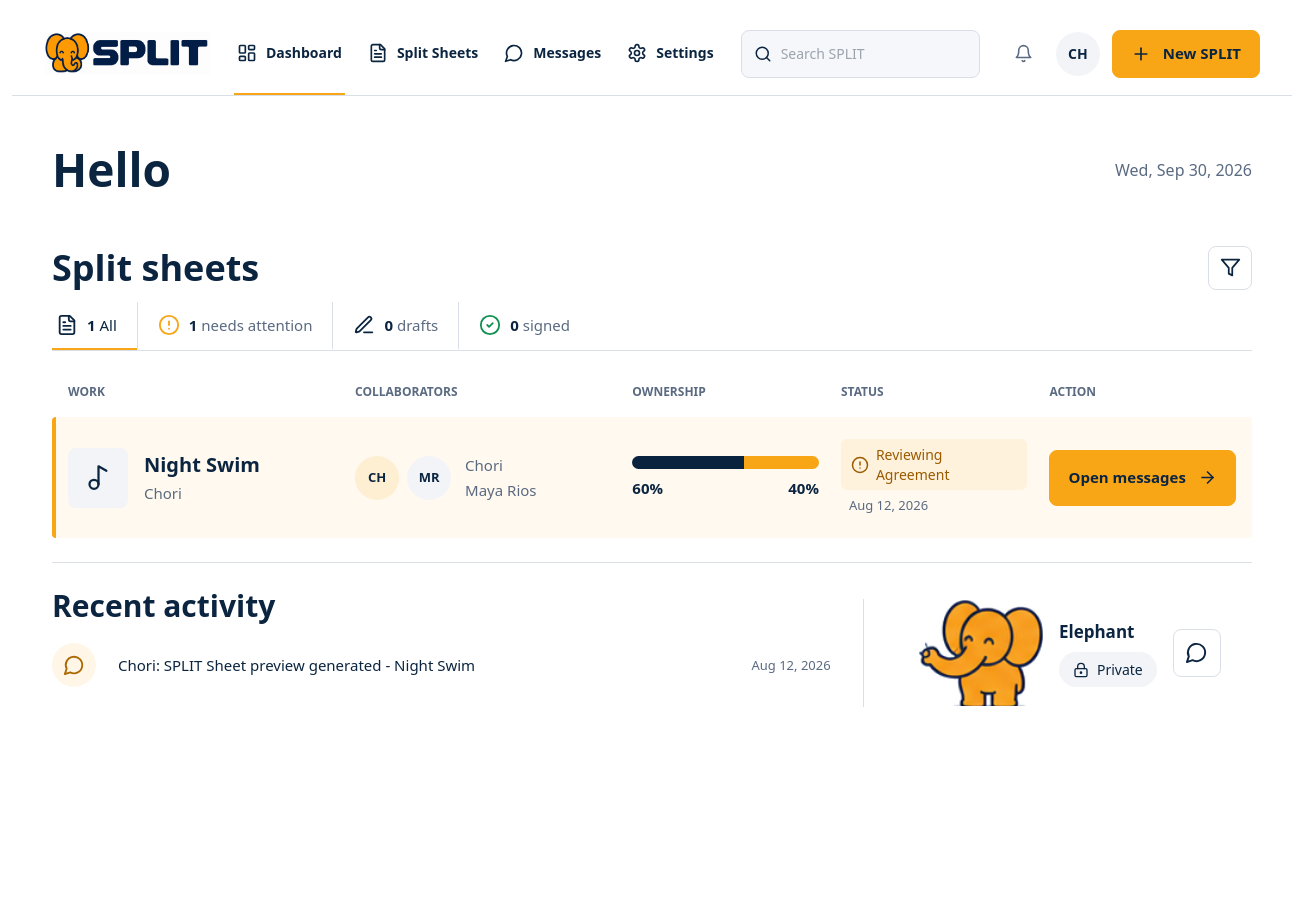
Test: dashboard workspace › surfaces recent split moments without cover art and opens messages
Expected: the heading "Hello" is shown, [52,142,171,197]
Expected: the button "Night Swim" is shown, [144,451,260,478]
Click the button "Open messages": coordinates (1143, 478) [1050,450,1236,506]
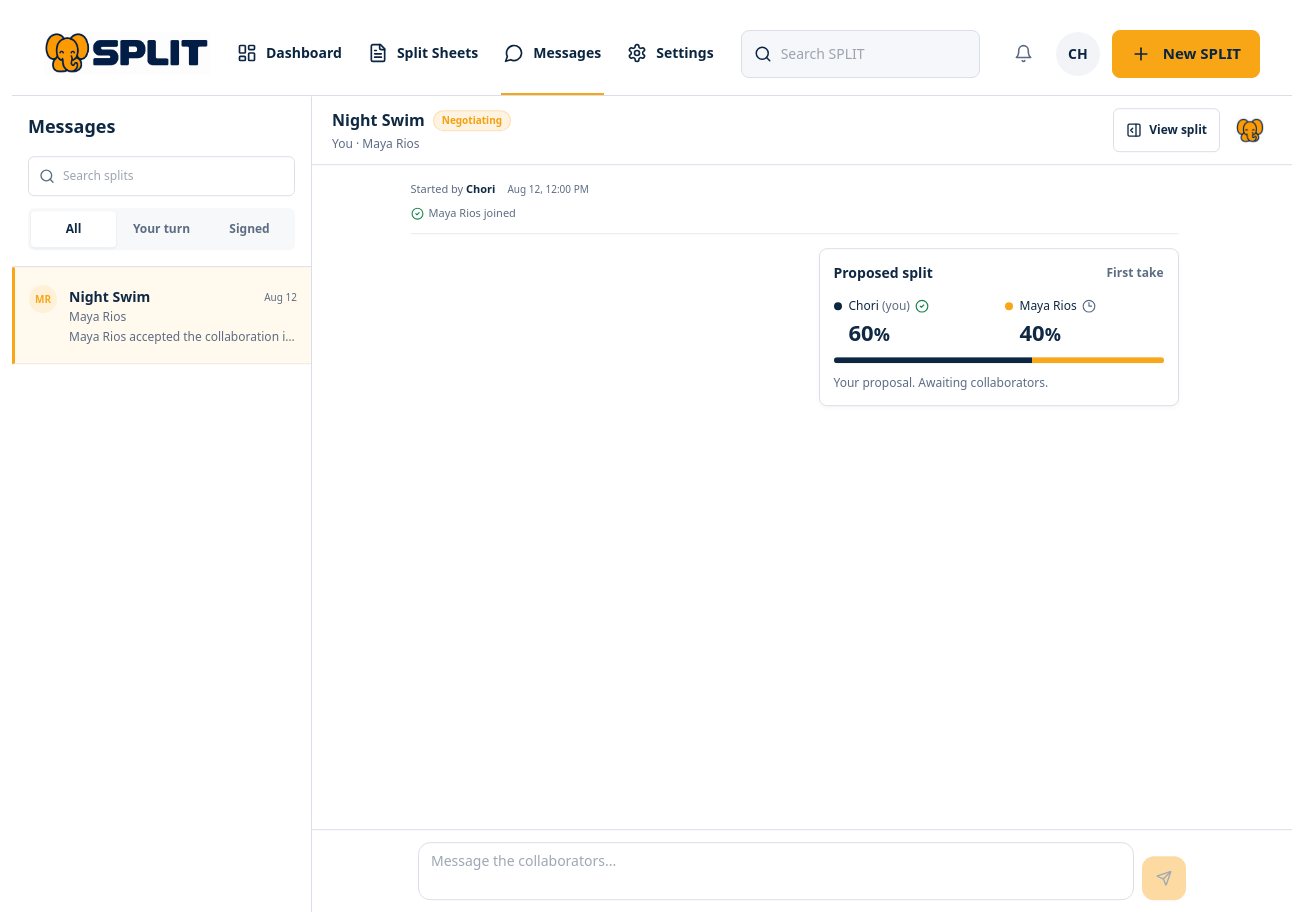
Expected: the text box with placeholder "Message the collaborators..." is shown, [418,842,1134,900]
